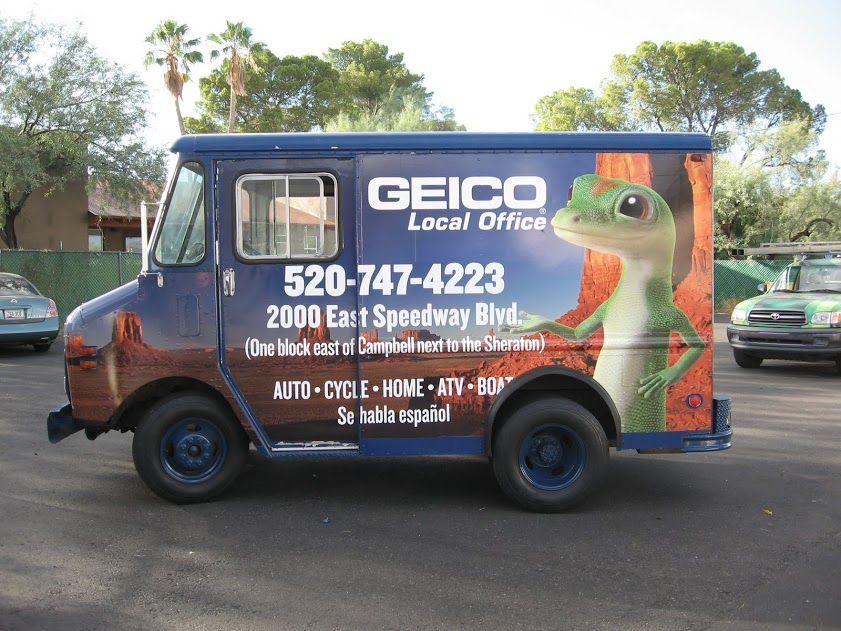geico: (363, 168, 553, 215)
